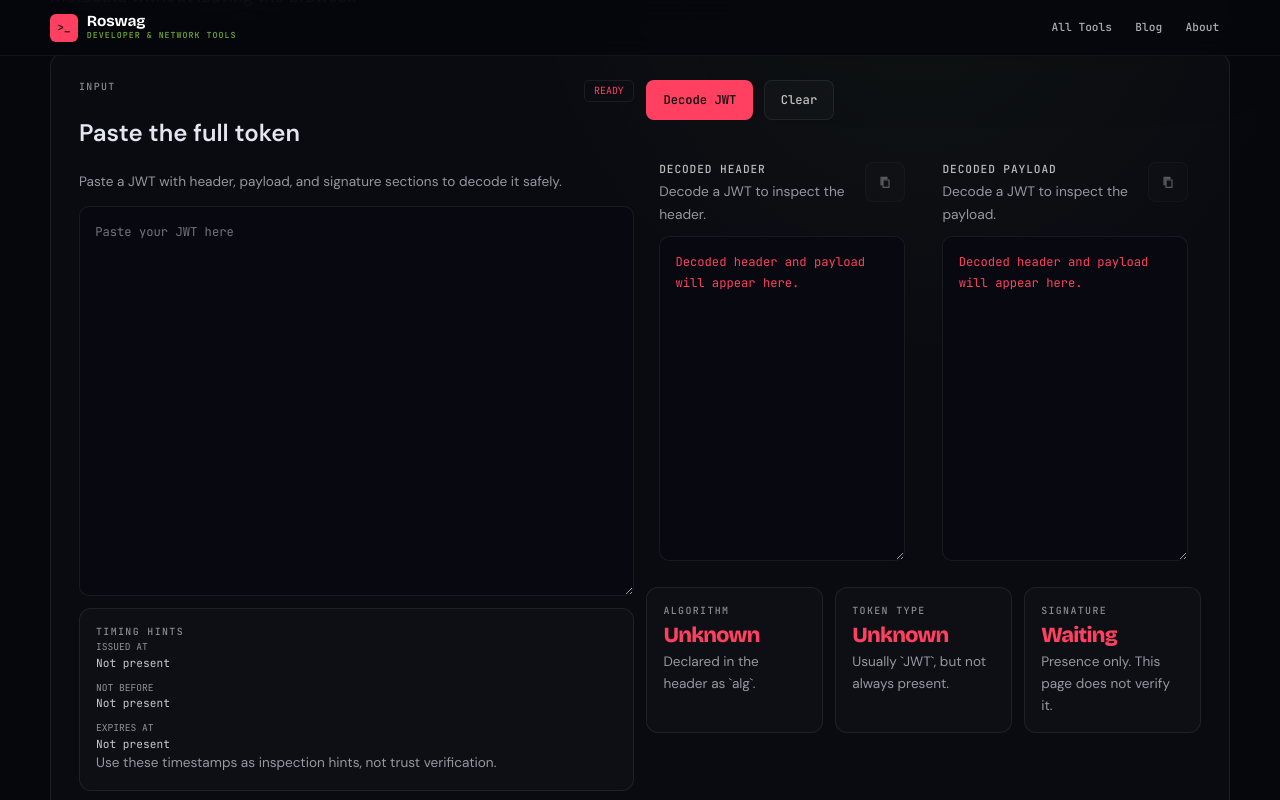
Test: JwtPage › shows a backend validation error for malformed JWT input
(page scrolled)
Type "bad-token" into the text box named "JWT input" at (356,401), box 79,206 -> 634,596
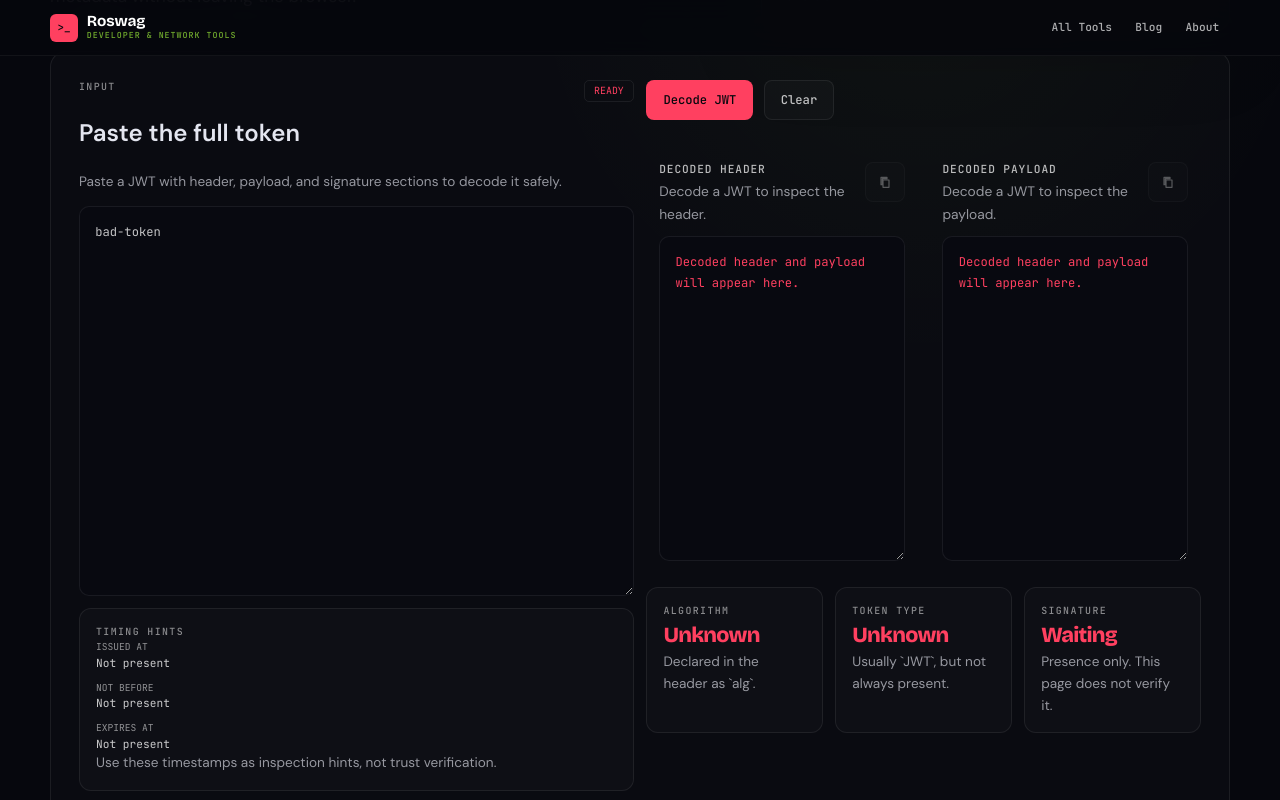
Click the button "Decode JWT" at (700,100), box 646,80 -> 753,120
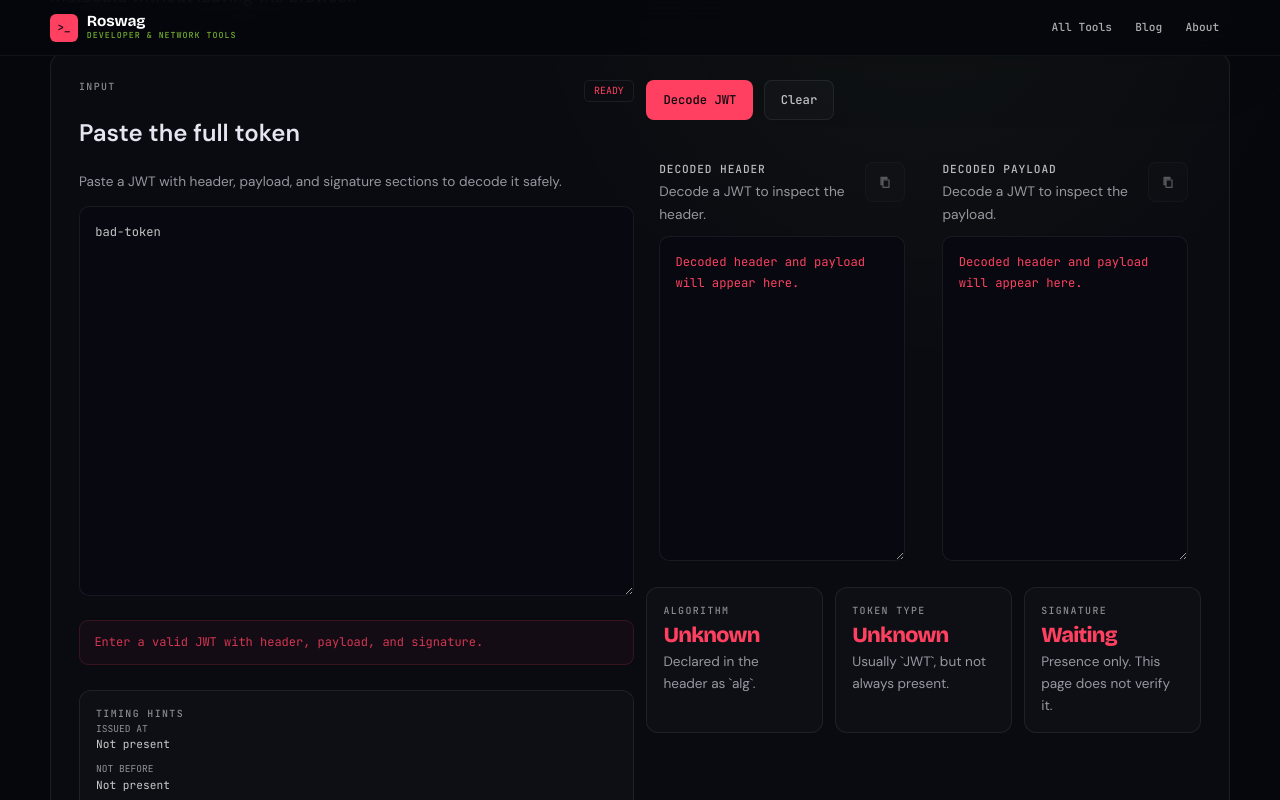
Now the text "Enter a valid JWT with header, payload, and signature." is shown, box 79,620 -> 634,665
